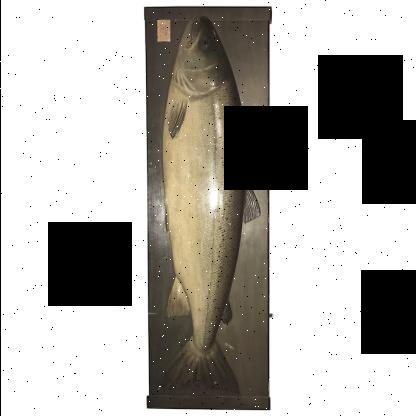fish: (157, 13, 263, 400)
